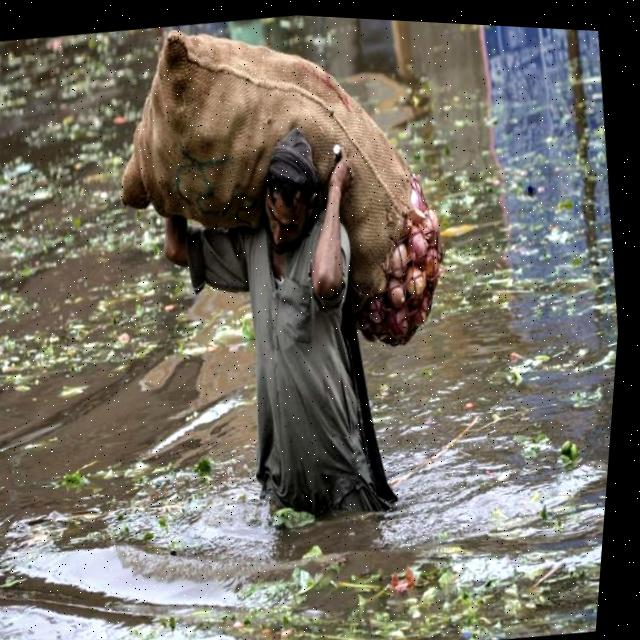civilian: (142, 114, 440, 557)
